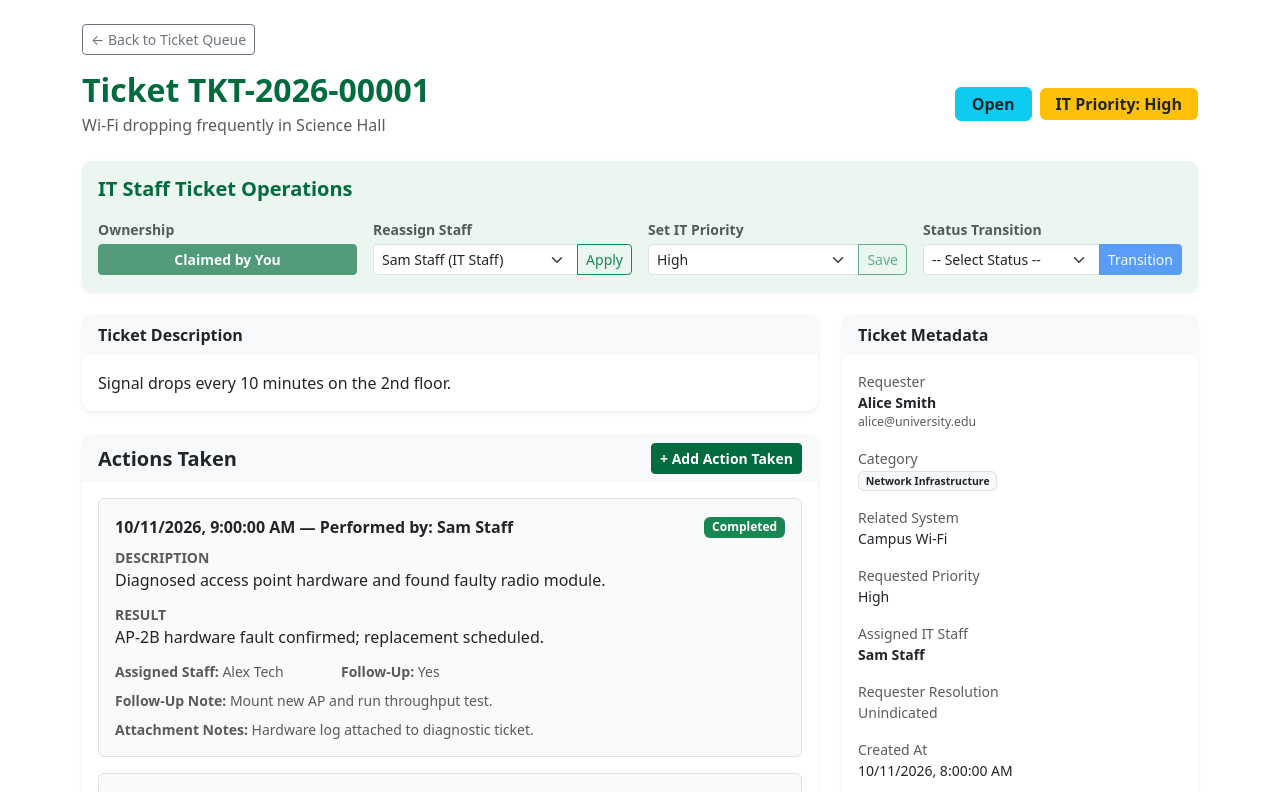
Test case: StaffTicketDetail — Lab 4 Actions Taken UI & Resolution Workflow (Issue #46) › 4. Ticket Status and Resolution Gate Workflow › RES-UI-02: Selecting 'Resolved' opens the Ticket Resolution Form requiring a Resolution Summary
The image size is (1280, 792).
Step 1. Select "Resolved" in the dropdown labelled "Status Transition" → x=1011, y=260, box [923, 244, 1100, 275]
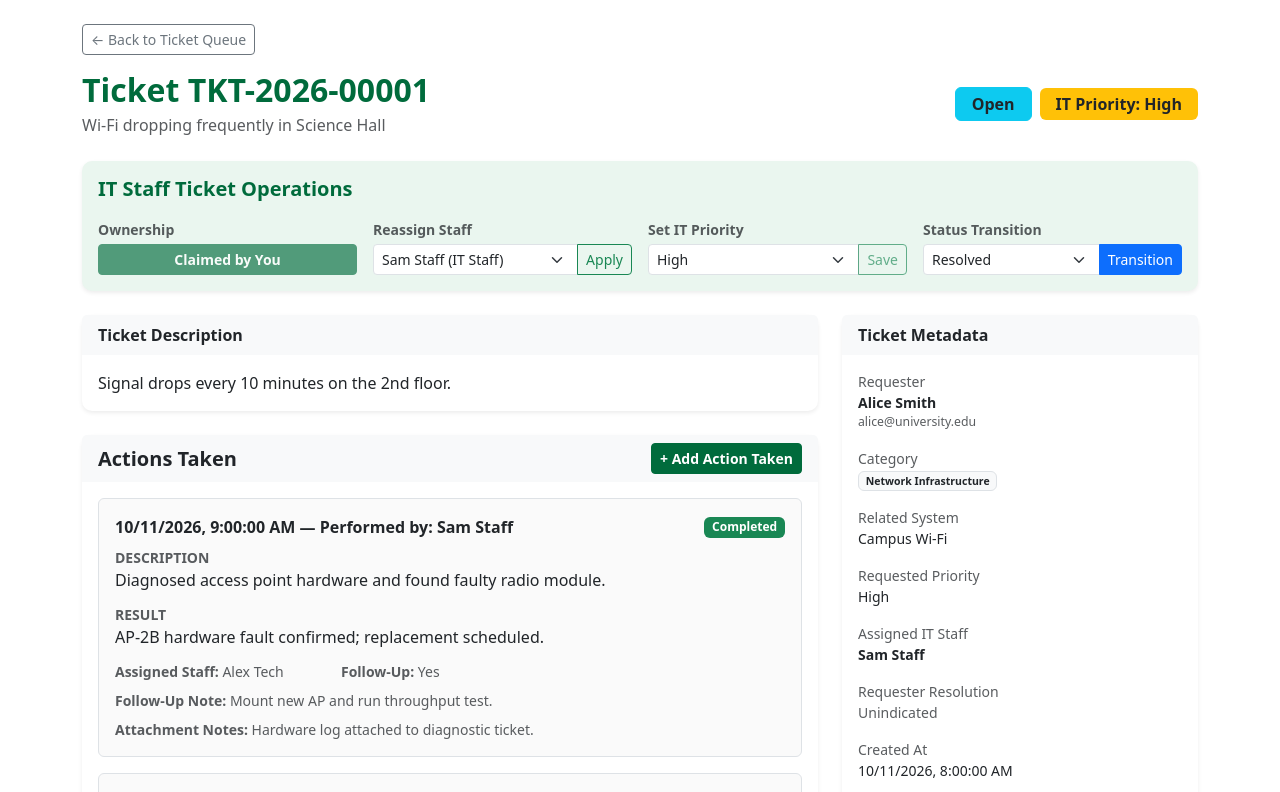
Step 2. Click the button "Transition" → x=1140, y=260, box [1099, 244, 1182, 275]
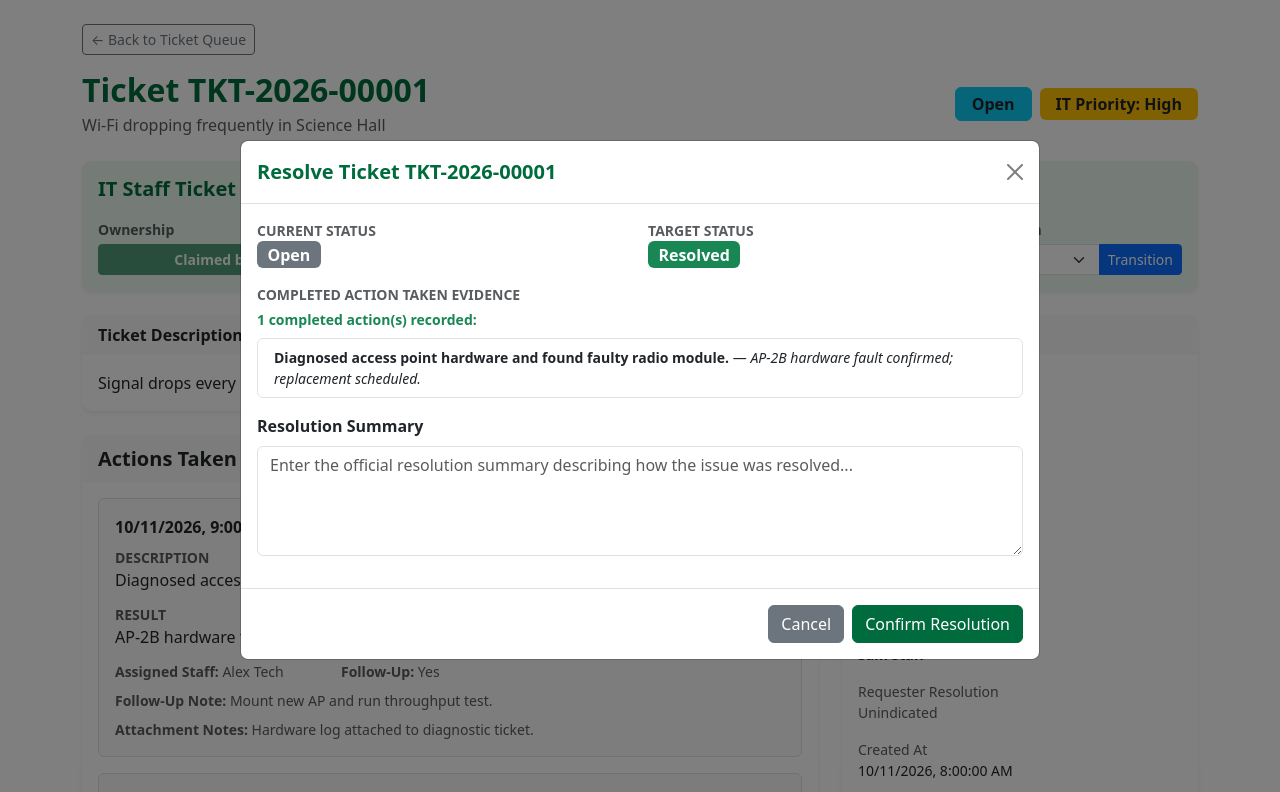
Check: the text box labelled "Resolution Summary" is shown, box [257, 446, 1023, 556]
Check: the button "Confirm Resolution" is shown, box [852, 605, 1023, 643]
